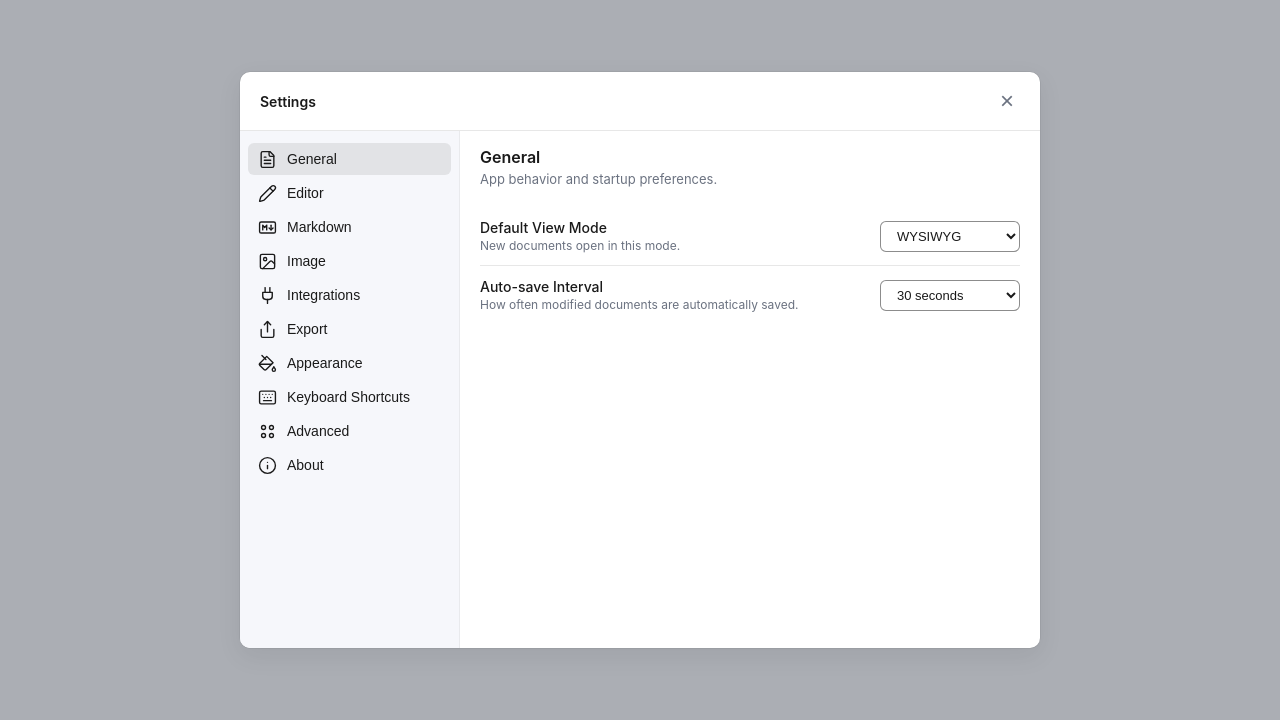
MCP-FIX-C2 server info renders only with a bound port › C2-01 launch failed with no port shows no Listening-on row and no port hint
Click the button "Integrations".
click(350, 295)  # box [248,279,451,311]
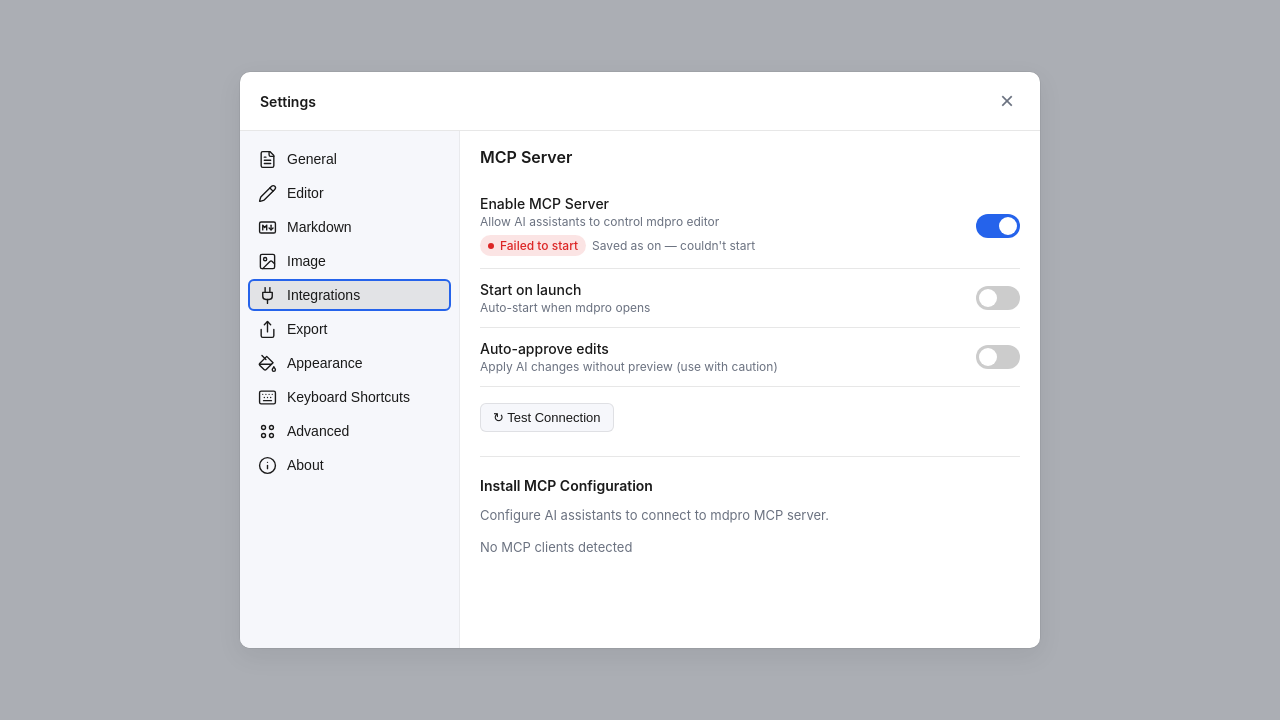
Result: the switch labelled "Enable MCP Server" is shown at [976,214,1020,238]
Result: the message "Failed to start Saved as on — couldn't start" is shown at [480,235,755,256]
